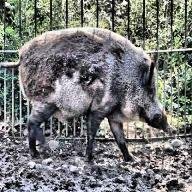boar: (21, 21, 179, 162)
